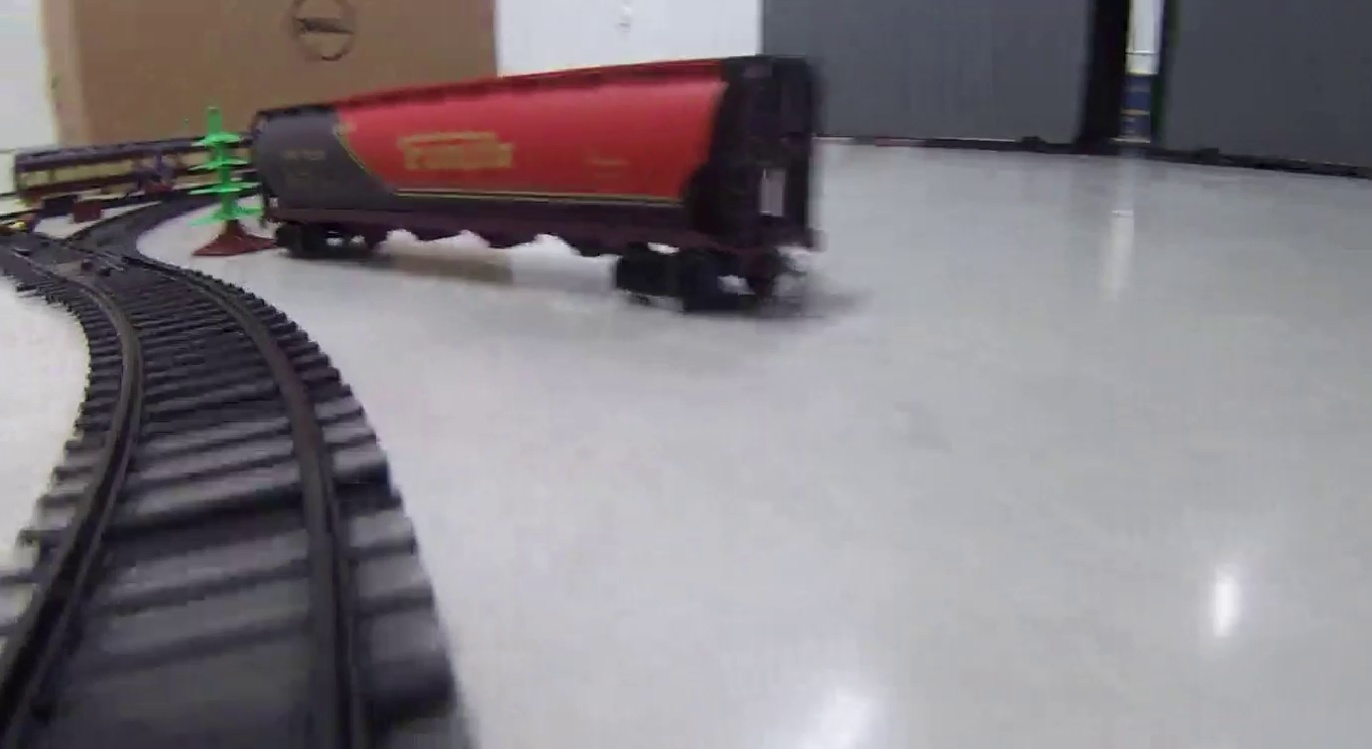tree: (189, 106, 271, 257)
